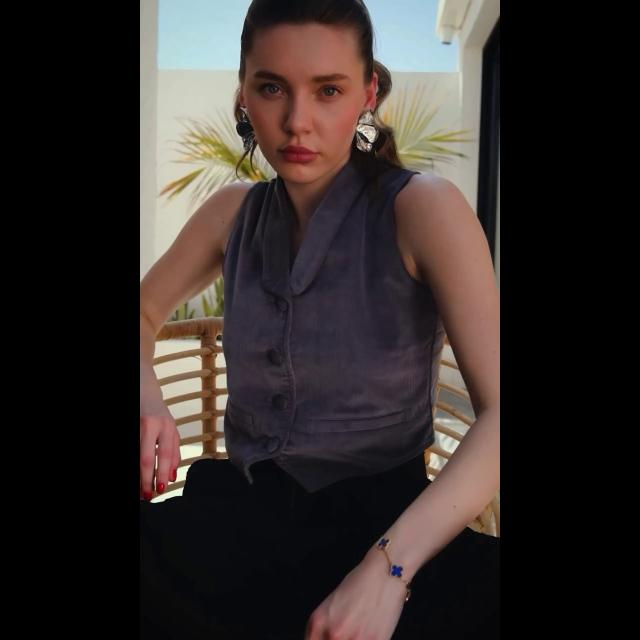bottom: (149, 458, 495, 640)
ear ring: (358, 113, 380, 151)
top: (224, 176, 436, 444)
